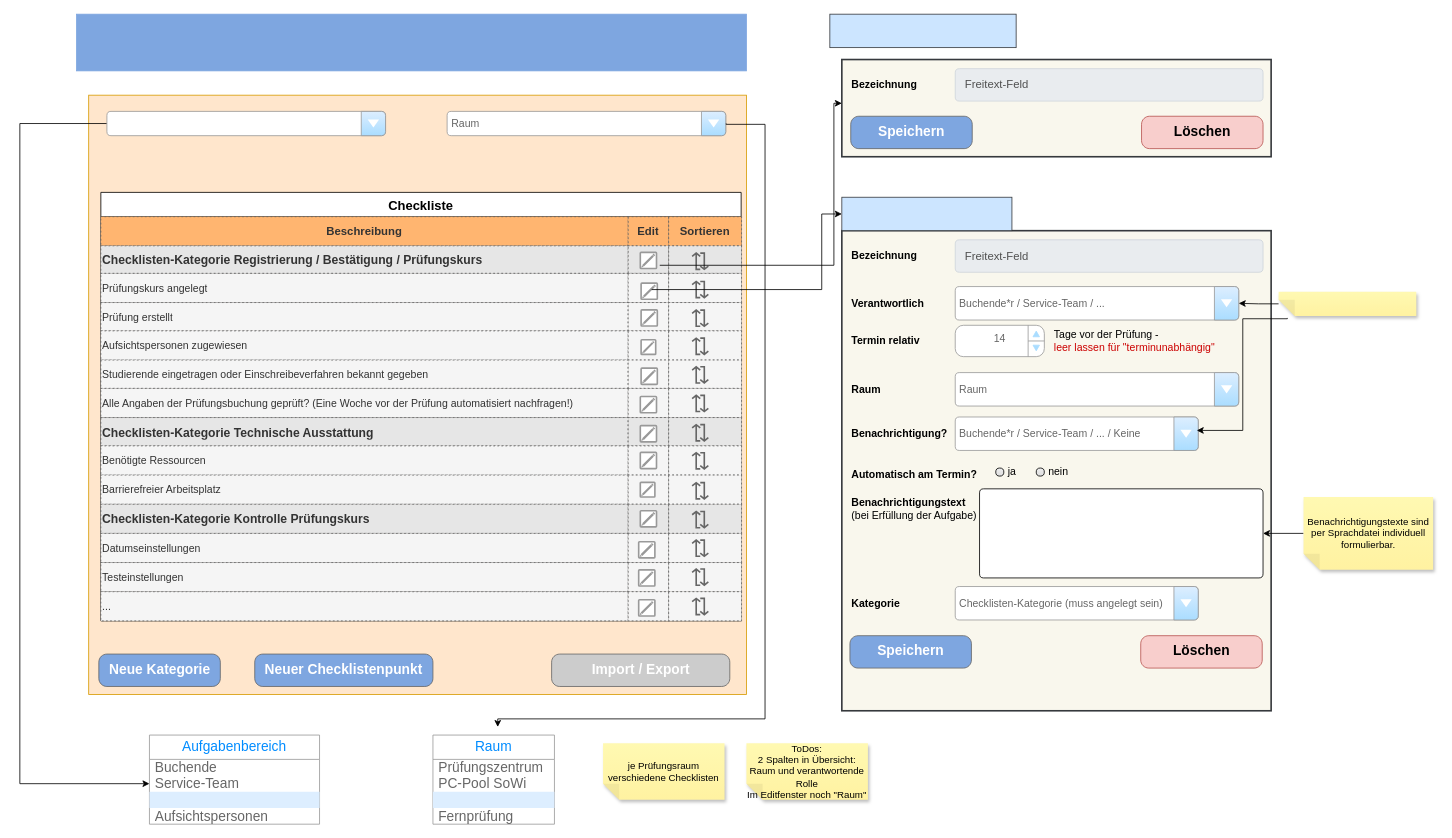
Some shapes in this 1452 by 838 pixel diagram are drawn without their labels. The shapes that lost their labels are listed below. From the top down, each one's centre as x and y in pixels, then its label:
At point 411,42: "Mockup Checkliste: Administrator".
At point 922,30: "Checklisten-Kategorie bearbeiten".
At point 246,123: "Aufgabenbereich / Rolle".
At point 926,213: "Checklistenpunkt bearbeiten".
At point 1348,304: "Rollenbezeichnungen!".
At point 1121,533: "Freitext-Feld, ggf mit Platzhaltern für Name, Prüfungsbezeichnung, etc.".
At point 234,799: "Support vor Ort".
At point 493,799: "PC-Saal MathNat".
